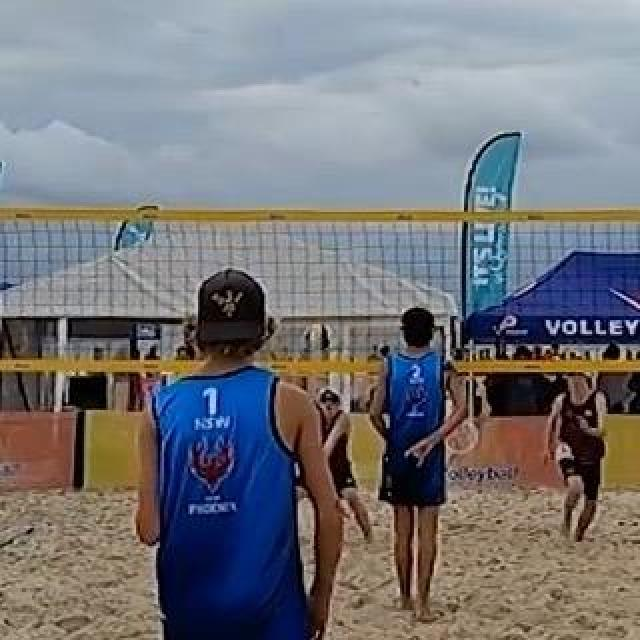volleyball: (300, 321, 332, 353)
